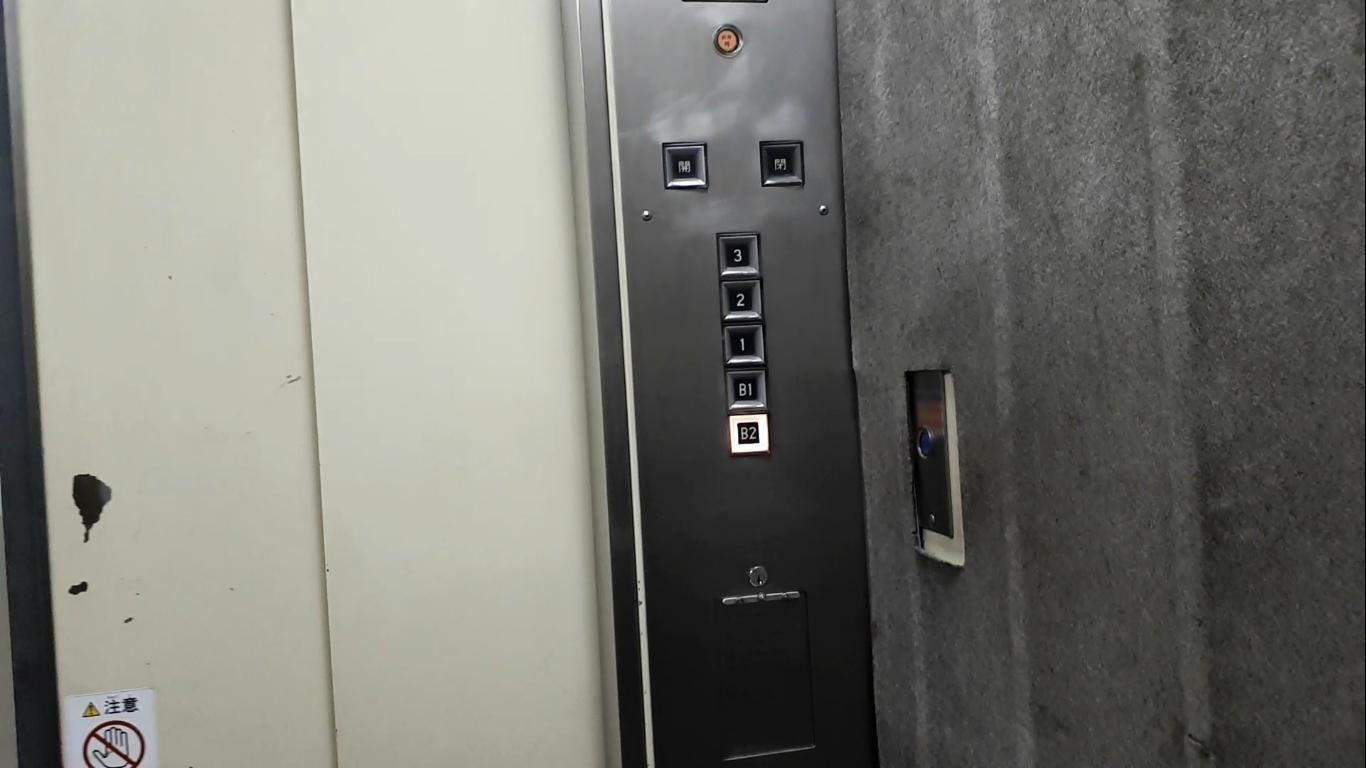1: (717, 320, 769, 369)
2: (714, 276, 767, 323)
3: (713, 231, 763, 280)
B1: (720, 365, 770, 413)
B2: (726, 410, 772, 459)
keyhole: (742, 560, 771, 591)
text_close: (753, 135, 809, 193)
text_open: (658, 138, 713, 194)
